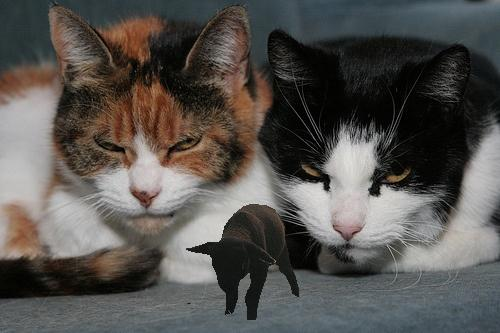tampered: (187, 205, 299, 320)
